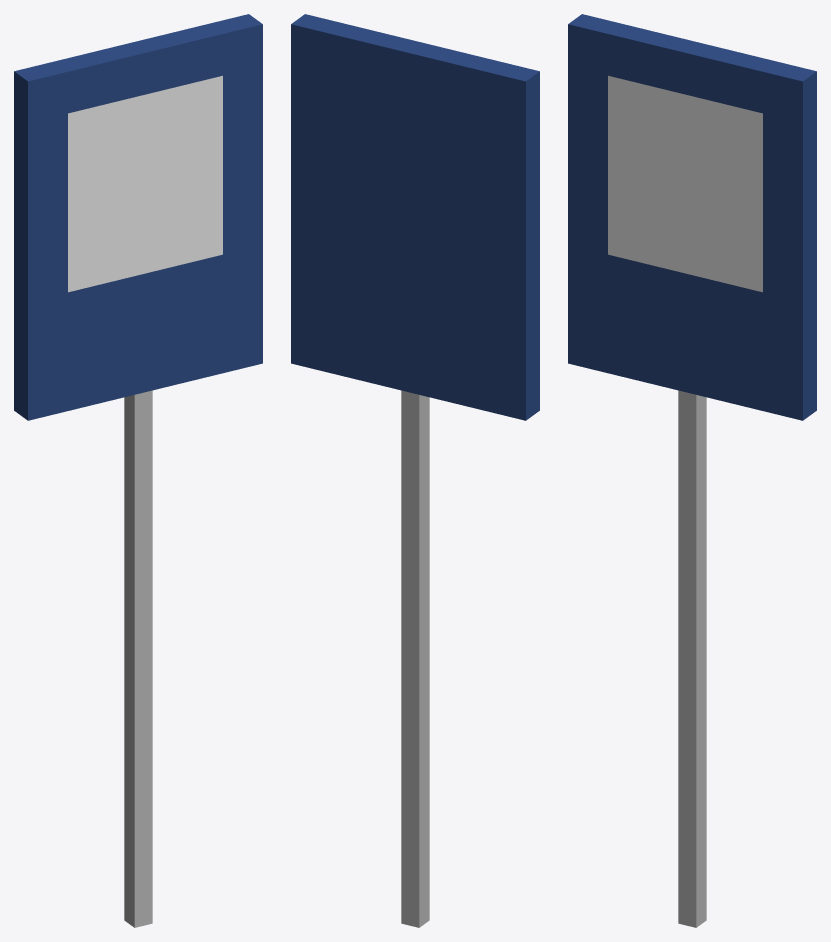
File: Road_Sign_5.fbx
The picture shows the model from 3 angles, left to right: view 1: azimuth 30°, elevation 25°; view 2: azimuth 150°, elevation 25°; view 3: azimuth 330°, elevation 25°; orthographic projection.
Visible parts, largest first — view 1: Road_Sign_5; view 2: Road_Sign_5; view 3: Road_Sign_5.
Boxes of the visible parts, x1,y1,x2,y2 form: Road_Sign_5: (14, 14, 262, 927); Road_Sign_5: (291, 14, 539, 927); Road_Sign_5: (568, 14, 816, 927).
Size of the model in its own units: 0.8708 by 3.1 by 0.0898.
1 material, 1 textured.
